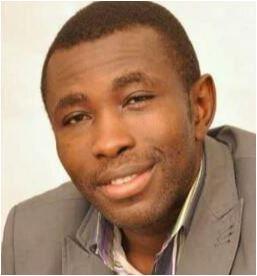without_facemask: (56, 136, 204, 237)
